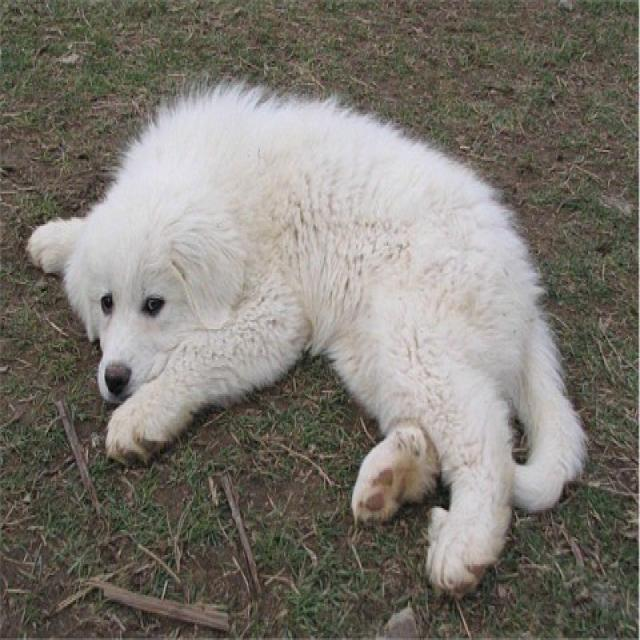dog-great_pyrenees: (16, 76, 599, 611)
